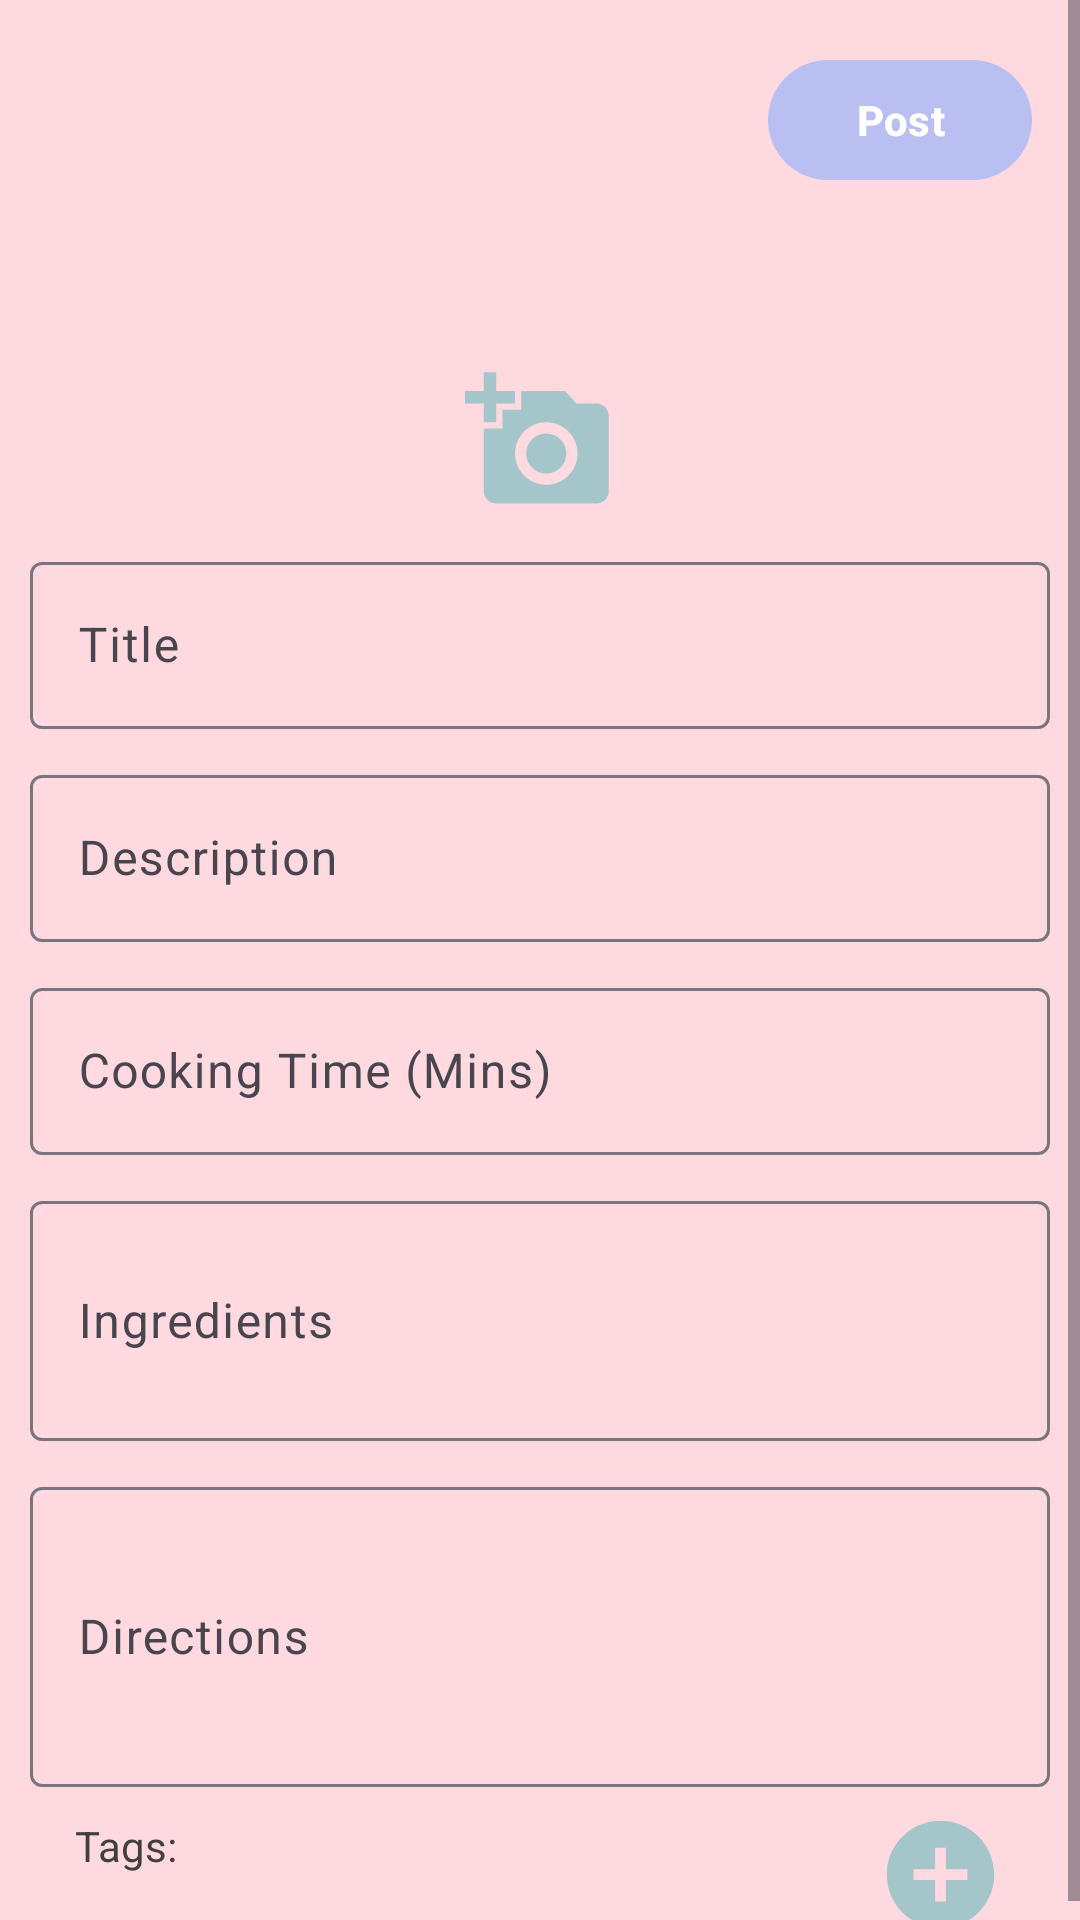

Locate icon controls on the screen. Image size 1080 × 1920, boxes as (x1, y1, x2, y2).
add photos: (465, 372, 609, 504)
